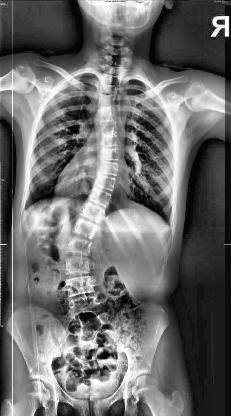Vertebrae: (64, 275, 96, 297), (80, 201, 107, 225), (73, 216, 97, 242), (88, 186, 114, 208), (65, 236, 93, 256), (64, 256, 92, 276), (92, 174, 117, 192), (96, 160, 121, 176), (98, 132, 122, 148), (100, 145, 124, 161), (94, 116, 121, 130), (97, 82, 123, 96), (96, 91, 118, 107), (95, 104, 119, 118), (100, 64, 126, 76), (102, 72, 123, 86)
